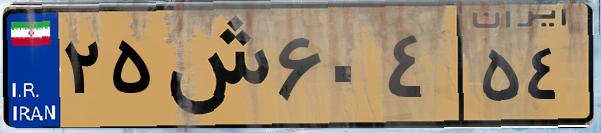0: (330, 28, 385, 110)
2: (57, 26, 110, 100)
4: (385, 28, 445, 110), (525, 38, 570, 115)
5: (475, 38, 525, 113), (110, 28, 158, 98)
6: (270, 28, 330, 110)
ش: (158, 12, 270, 120)
